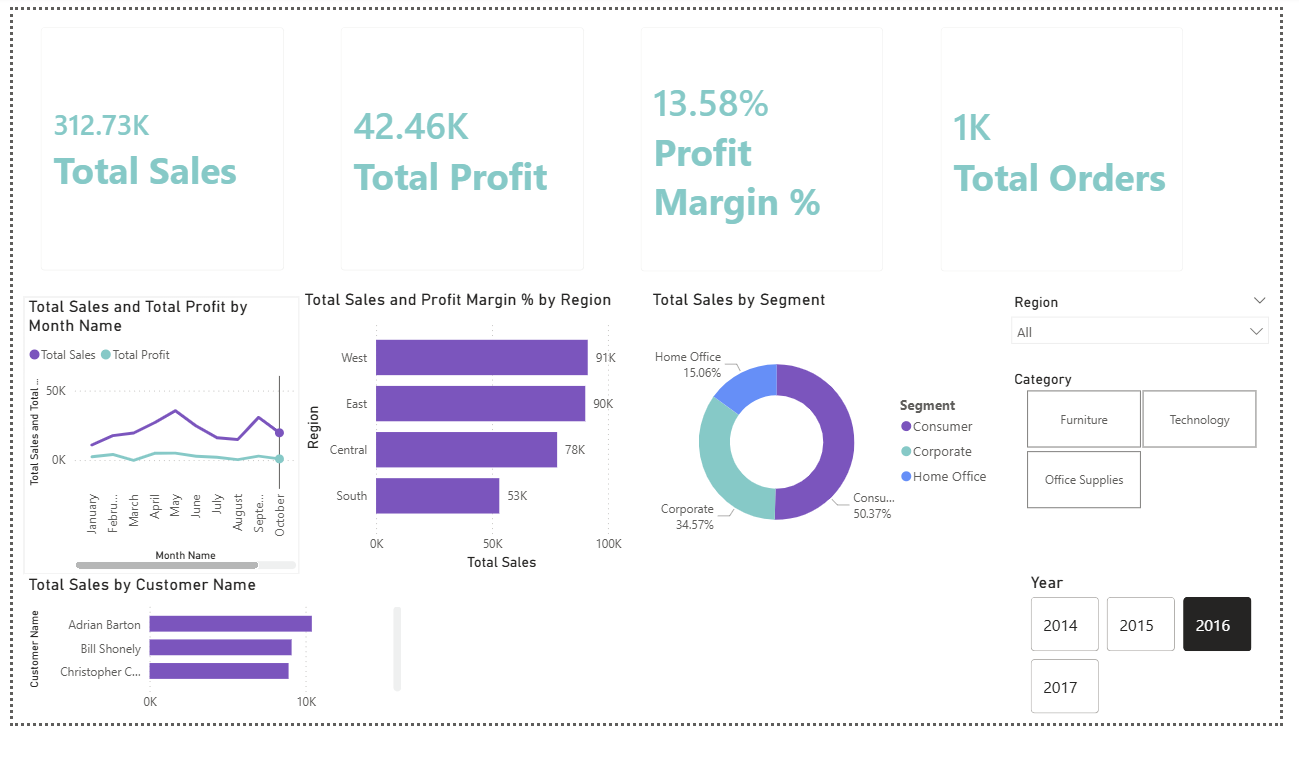

The page's visual inventory and layout, read from the dashboard file:
{"tool":"powerbi","page":{"name":"Executive Overview","canvas":[1280,720],"ordinal":0},"visuals":[{"type":"cardVisual","fields":{"Data":["_Measures.Total Sales"]},"box":[10,0,280,280],"z":0},{"type":"cardVisual","fields":{"Data":["_Measures.Total Profit"]},"box":[313.5,0,280,280],"z":1000},{"type":"cardVisual","fields":{"Data":["_Measures.Profit Margin %"]},"box":[617.1,0,279.7,281.6],"z":2000},{"type":"cardVisual","fields":{"Data":["_Measures.Total Orders"]},"box":[920.3,0,279.7,281.6],"z":3000},{"type":"lineChart","fields":{"Category":["Date.Month Name"],"Y":["_Measures.Total Sales","_Measures.Total Profit"]},"box":[10,290,280,280],"z":4000},{"type":"advancedSlicerVisual","fields":{"Values":["Date.Year"]},"box":[1022.4,568.8,234.3,149.3],"z":5000},{"type":"clusteredBarChart","fields":{"Category":["Orders.Region"],"Y":["_Measures.Total Sales"]},"box":[290.1,281.4,349.9,288.7],"z":6000},{"type":"donutChart","fields":{"Category":["Orders.Segment"],"Y":["_Measures.Total Sales"]},"box":[640.6,281.6,357.2,289.1],"z":7000},{"type":"slicer","fields":{"Values":["Orders.Region"]},"box":[998.6,281.4,279.9,77.3],"z":8000},{"type":"slicer","fields":{"Values":["Orders.Category"]},"box":[997.8,359.1,281.6,151.2],"z":9000},{"type":"clusteredBarChart","fields":{"Category":["Orders.Customer Name"],"Y":["_Measures.Total Sales"]},"box":[10.2,570,386.3,147.2],"z":10000}]}

Visuals, with their boxes on the page's 1280x720 design canvas (x1, y1, x2, y2). These are canvas units, not pixel positions in the 1299x758 screenshot, which may show the page scaled, cropped or inside an application window:
cardVisual - _Measures.Total Sales: {"left": 10, "top": 0, "right": 290, "bottom": 280}
cardVisual - _Measures.Total Profit: {"left": 314, "top": 0, "right": 594, "bottom": 280}
cardVisual - _Measures.Profit Margin %: {"left": 617, "top": 0, "right": 897, "bottom": 282}
cardVisual - _Measures.Total Orders: {"left": 920, "top": 0, "right": 1200, "bottom": 282}
lineChart - Date.Month Name x _Measures.Total Sales: {"left": 10, "top": 290, "right": 290, "bottom": 570}
advancedSlicerVisual - Date.Year: {"left": 1022, "top": 569, "right": 1257, "bottom": 718}
clusteredBarChart - Orders.Region x _Measures.Total Sales: {"left": 290, "top": 281, "right": 640, "bottom": 570}
donutChart - Orders.Segment x _Measures.Total Sales: {"left": 641, "top": 282, "right": 998, "bottom": 571}
slicer - Orders.Region: {"left": 999, "top": 281, "right": 1278, "bottom": 359}
slicer - Orders.Category: {"left": 998, "top": 359, "right": 1279, "bottom": 510}
clusteredBarChart - Orders.Customer Name x _Measures.Total Sales: {"left": 10, "top": 570, "right": 396, "bottom": 717}
